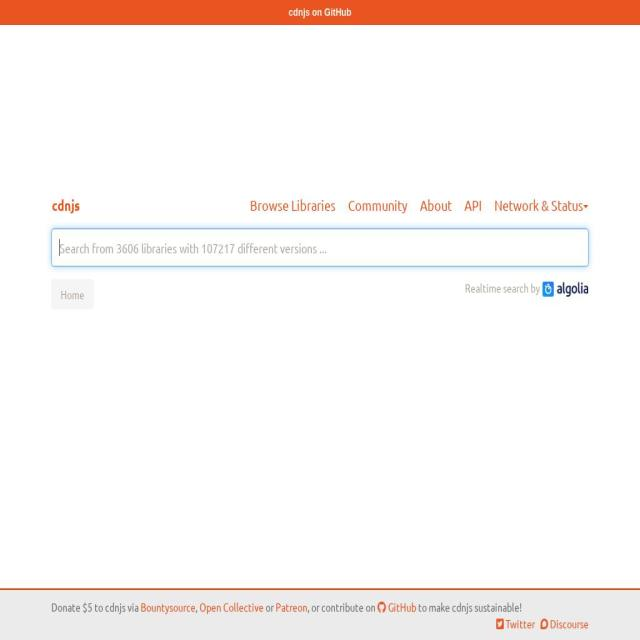button: (0, 0, 640, 25), (494, 193, 589, 216), (249, 193, 337, 216), (348, 193, 408, 216), (419, 193, 453, 216), (50, 193, 80, 216), (464, 193, 483, 216)
field: (51, 228, 590, 267)
image: (542, 281, 589, 298)
link: (198, 599, 264, 614), (140, 599, 196, 614), (275, 599, 307, 614)
text: (416, 599, 522, 614), (494, 196, 584, 213), (51, 599, 140, 614), (465, 280, 543, 295), (307, 599, 377, 614), (548, 616, 590, 631), (504, 616, 536, 631), (386, 599, 416, 614), (60, 286, 84, 302), (263, 599, 276, 614), (195, 599, 199, 614)
